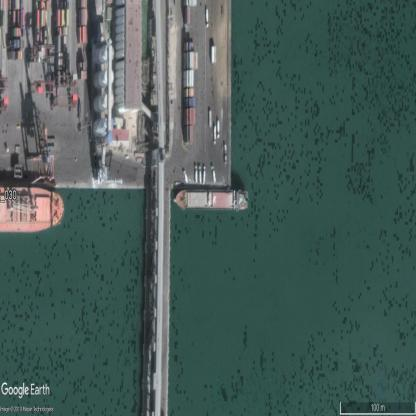ship: (1, 187, 64, 235), (174, 189, 250, 213)
